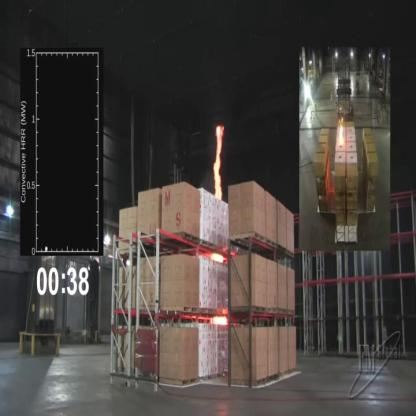fire: (210, 123, 227, 205)
